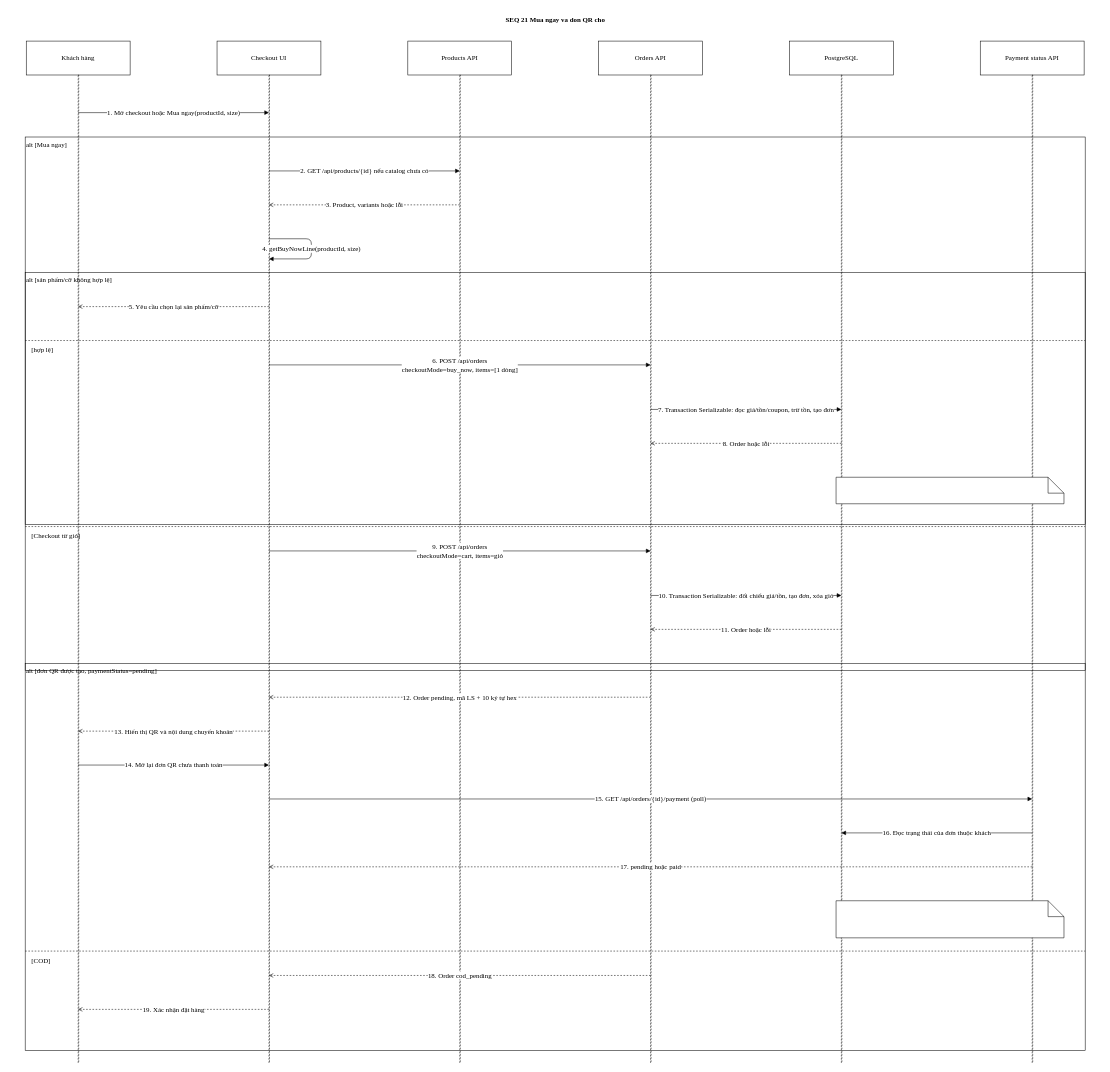
Some shapes in this 1110 by 1072 pixel diagram are drawn without their labels. The shapes that lost their labels are listed below. From the top down, each one's centre as x and y in pixels, then its label:
(x=950, y=490): Không xóa CartItem khi buy_now.
(x=950, y=919): Webhook có chữ ký và đối soát được mô tả ở SEQ-11.
